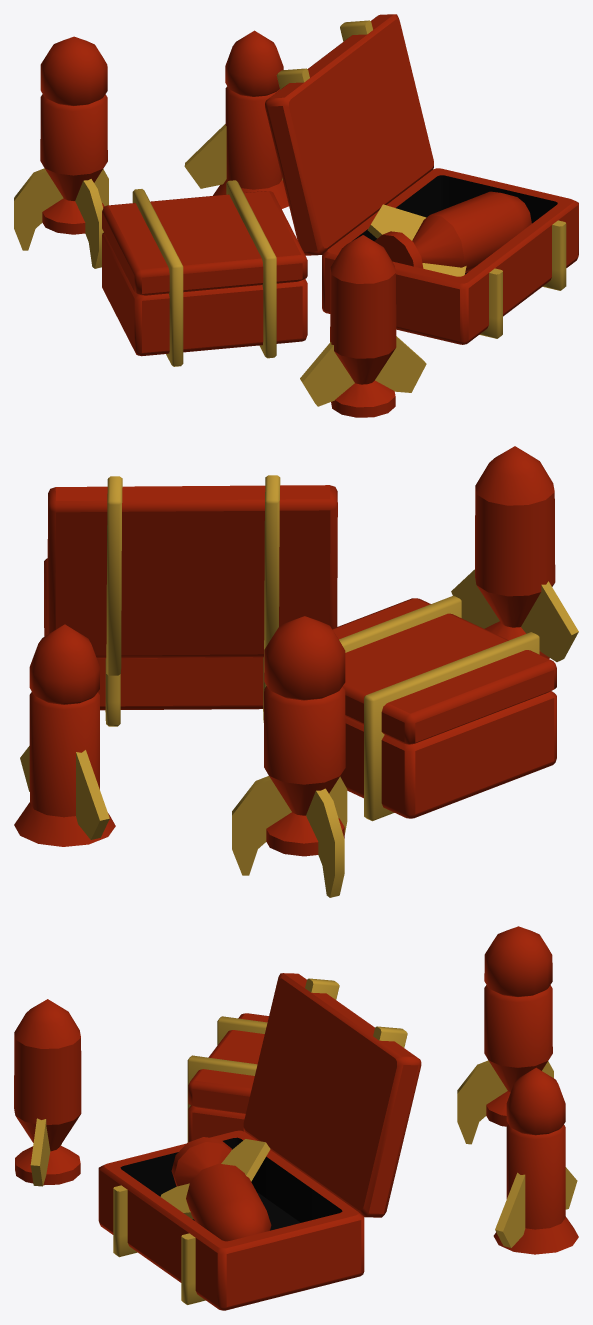
Rendered from Rocket Factory Top Fractured.fbx.
3 views of the same model, one above another, from view 1: azimuth 30°, elevation 25°; view 2: azimuth 150°, elevation 25°; view 3: azimuth 270°, elevation 25° (orthographic). The views are drawn at different scales.
Parts seen in each view (by area): view 1: Rocket Factory Top Fracture.001, Rocket Factory Top Fracture, Rocket Factory Top Fracture.002, Rocket Factory Top Fracture.004, Rocket Factory Top Fracture.003; view 2: Rocket Factory Top Fracture.001, Rocket Factory Top Fracture, Rocket Factory Top Fracture.002, Rocket Factory Top Fracture.004, Rocket Factory Top Fracture.003; view 3: Rocket Factory Top Fracture.001, Rocket Factory Top Fracture.002, Rocket Factory Top Fracture.003, Rocket Factory Top Fracture.004, Rocket Factory Top Fracture.
Part boxes in pixels (<box>): Rocket Factory Top Fracture.001: <box>265,14,578,344</box>; Rocket Factory Top Fracture: <box>102,180,307,366</box>; Rocket Factory Top Fracture.002: <box>14,36,108,268</box>; Rocket Factory Top Fracture.004: <box>300,235,426,417</box>; Rocket Factory Top Fracture.003: <box>184,30,288,208</box>; Rocket Factory Top Fracture.001: <box>44,475,337,726</box>; Rocket Factory Top Fracture: <box>332,595,556,821</box>; Rocket Factory Top Fracture.002: <box>232,616,347,897</box>; Rocket Factory Top Fracture.004: <box>451,446,578,661</box>; Rocket Factory Top Fracture.003: <box>14,624,115,846</box>; Rocket Factory Top Fracture.001: <box>98,973,421,1310</box>; Rocket Factory Top Fracture.002: <box>457,926,553,1144</box>; Rocket Factory Top Fracture.003: <box>493,1067,578,1254</box>; Rocket Factory Top Fracture.004: <box>14,999,81,1186</box>; Rocket Factory Top Fracture: <box>187,1013,268,1142</box>.
Bounding box in the file's own units: 454 × 223 × 505.
